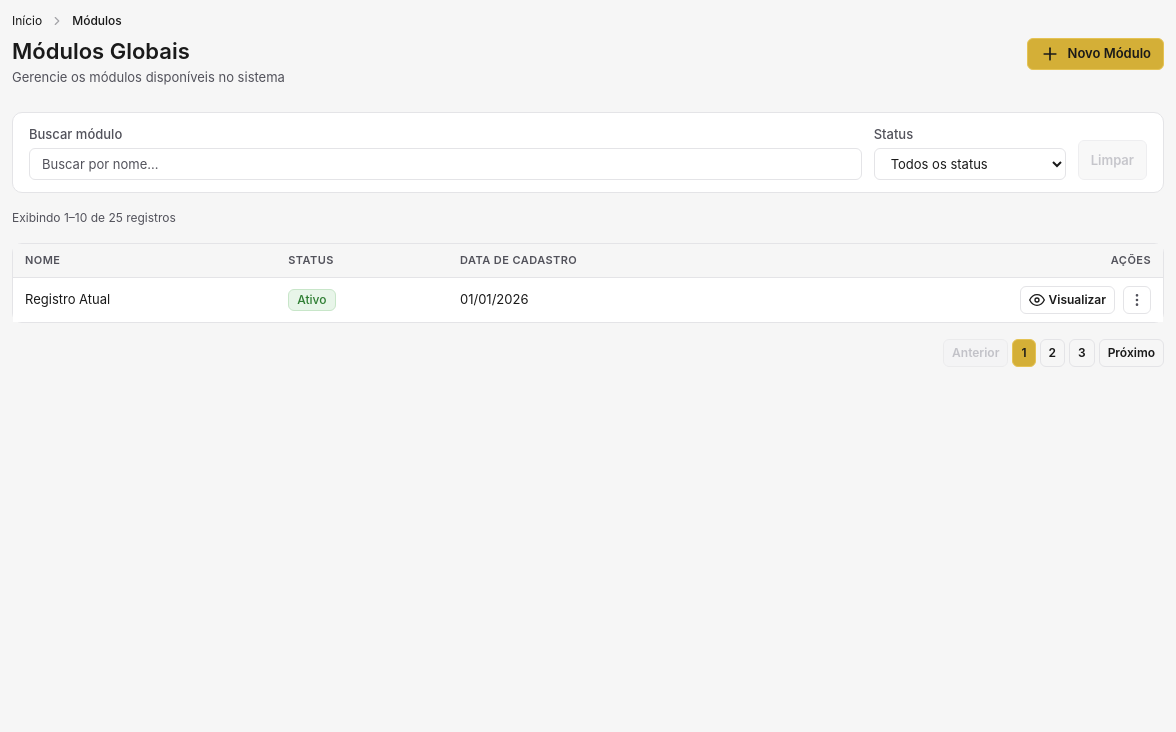
Test: Consultas de modulos › preserva dados em atualização e permite recuperar falha da consulta após inativar
This screenshot has width=1176, height=732.
Click the button named "Mais ações" at (1137, 300), box [1123,286,1151,314]
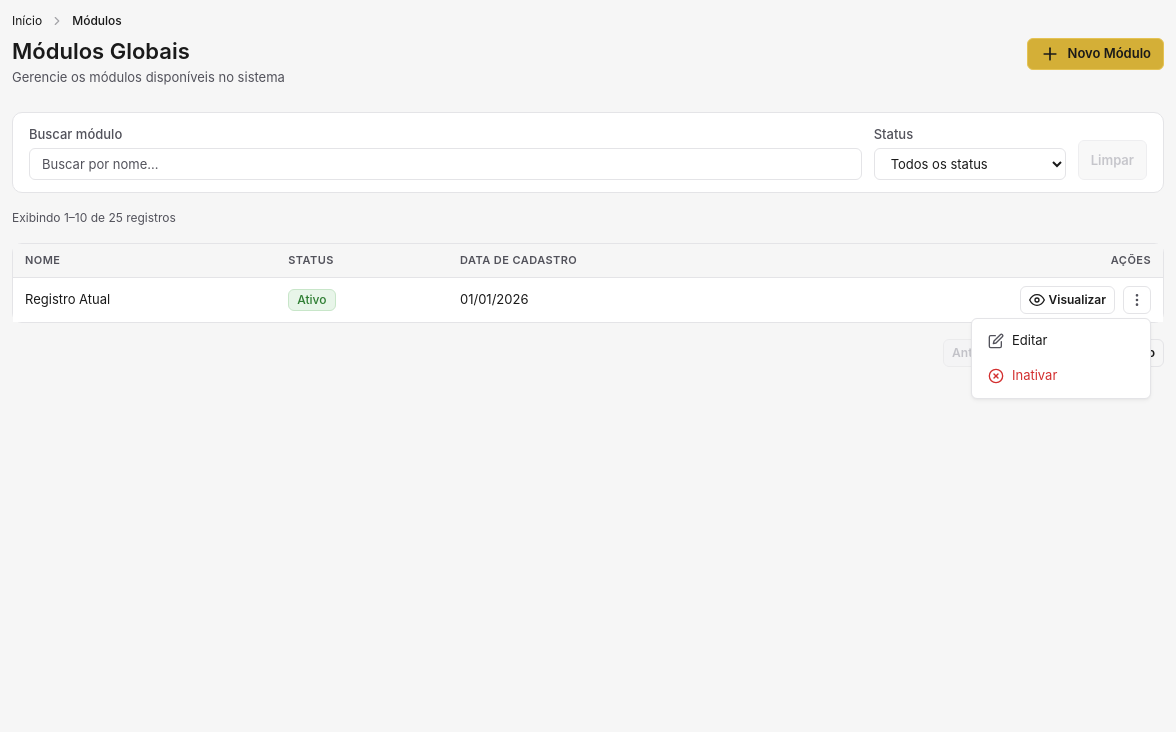
Click the menu item "Inativar" at (1061, 376), box [972,358,1150,394]
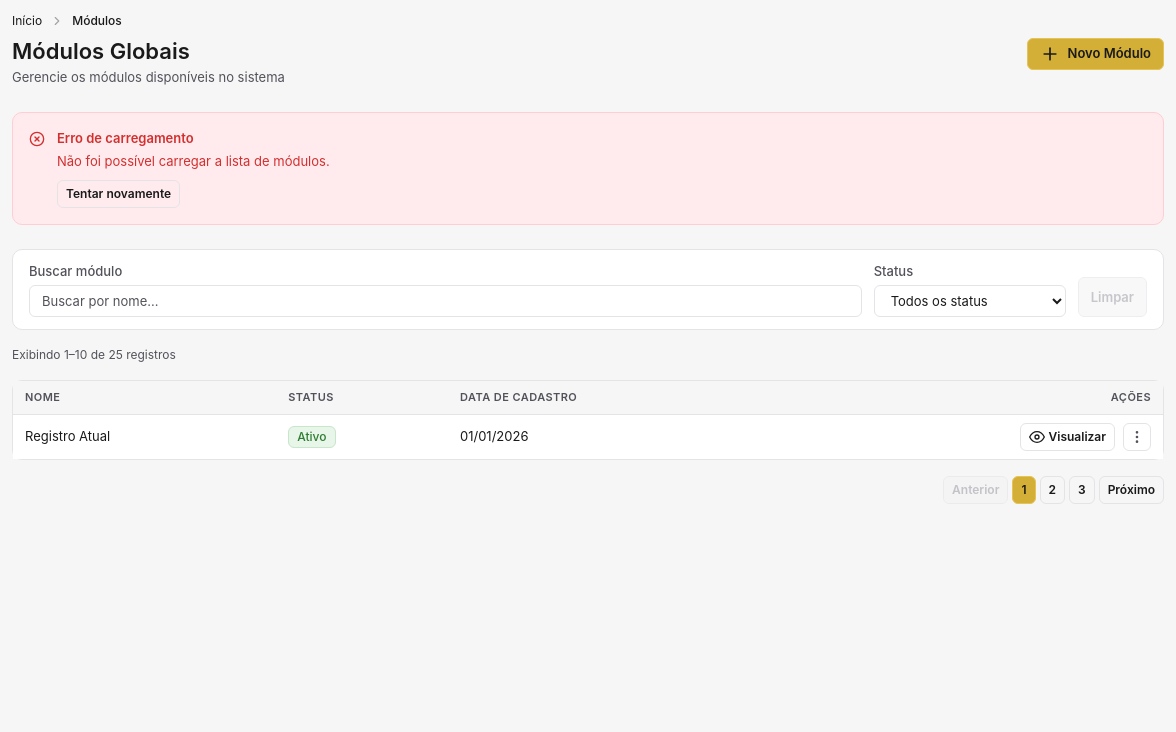
Check: the text "Registro Atual" is shown, box [13,414,276,459]
Check: the message is shown, box [12,112,1164,225]
Click the button "Tentar novamente" at (119, 194), box [57,180,180,208]
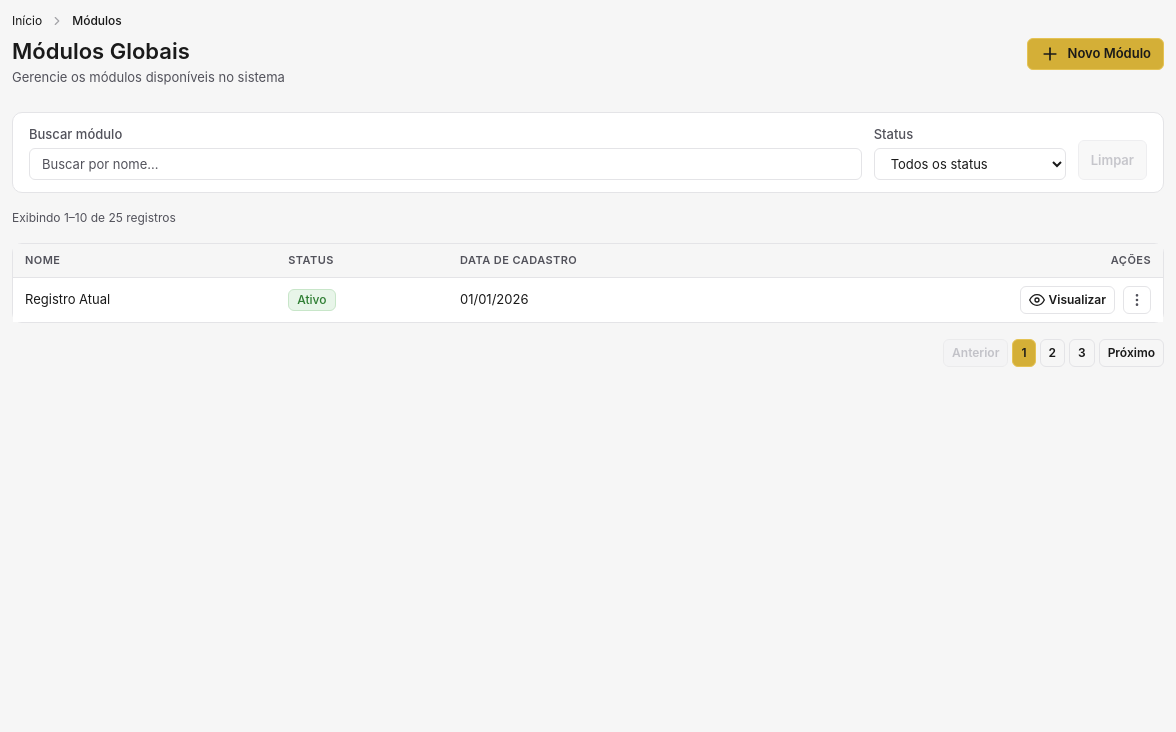
Check: the message is gone
